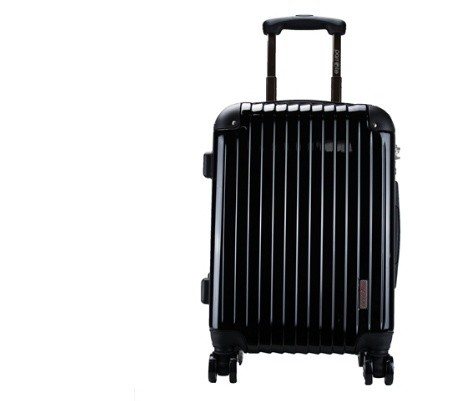luggage: (199, 13, 400, 384)
